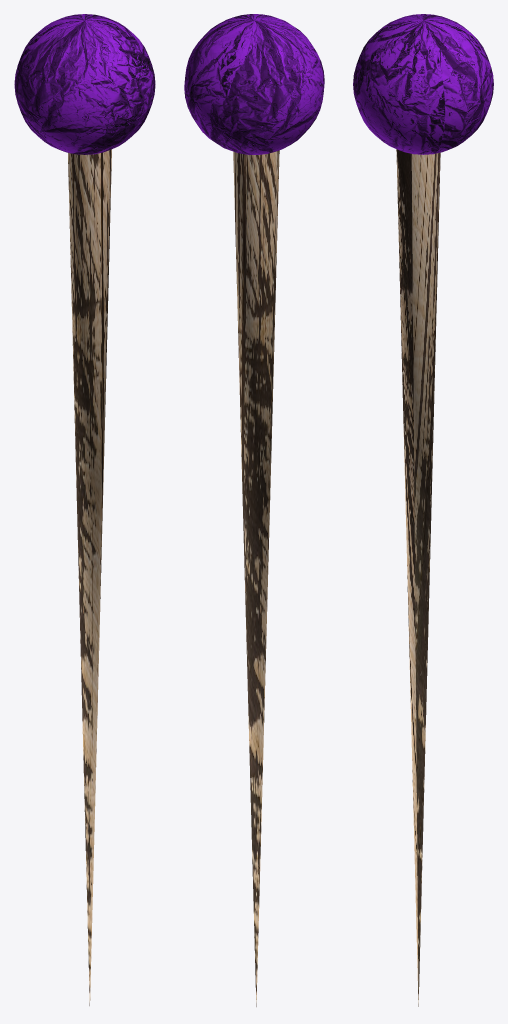
File: staff.fbx
3 renders of one model, left to right at view 1: azimuth 90°, elevation 25°; view 2: azimuth 150°, elevation 25°; view 3: azimuth 270°, elevation 25°, orthographic.
Parts seen in each view (by area): view 1: pCone2; view 2: pCone2; view 3: pCone2.
Part boxes in pixels (x1=…): pCone2: x1=14, y1=14, x2=155, y2=1005; pCone2: x1=184, y1=14, x2=324, y2=1006; pCone2: x1=353, y1=14, x2=493, y2=1006.
Bounding box in the file's own units: 37.63 × 291 × 37.63.
2 materials, 2 textured.
